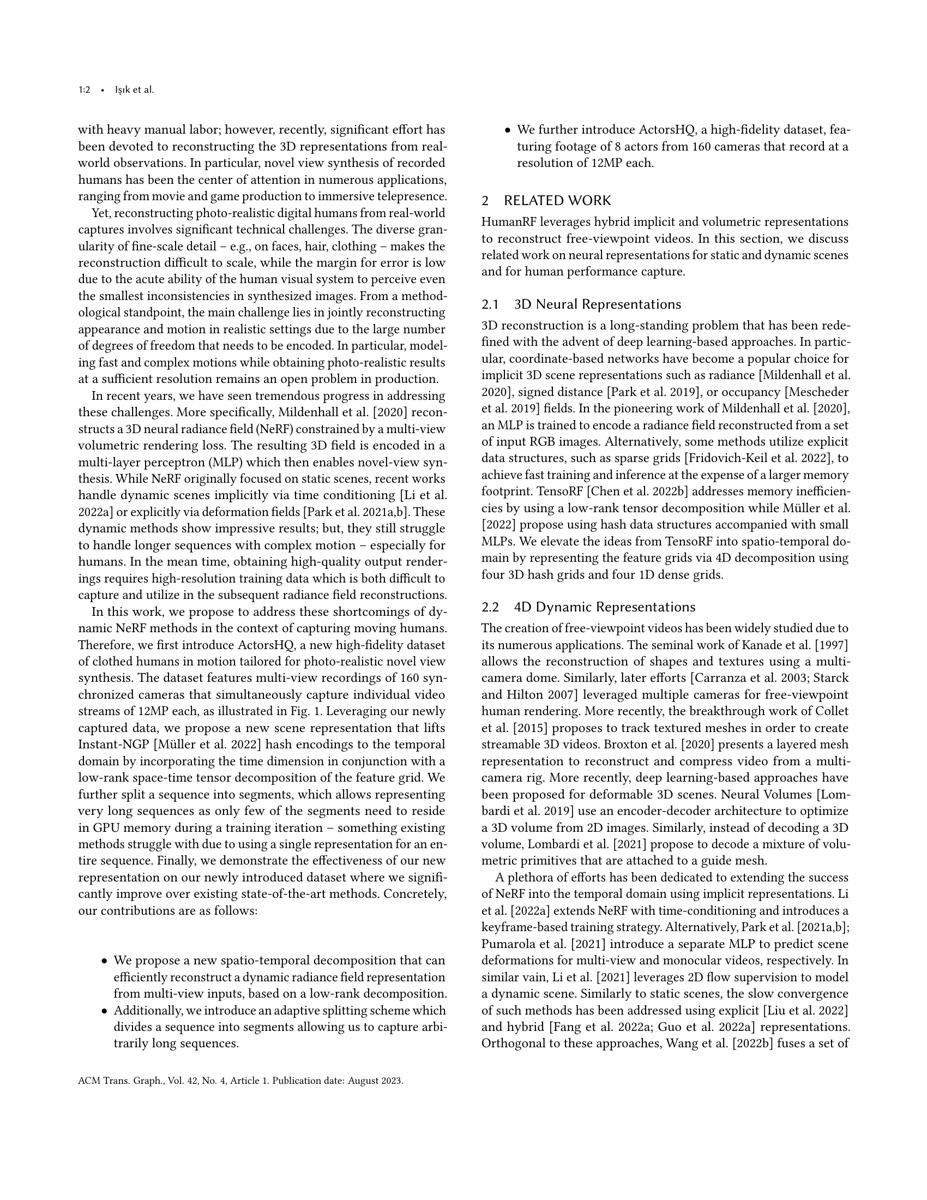text: (73, 121, 450, 603), (73, 603, 450, 921), (475, 295, 854, 586), (475, 596, 854, 869), (475, 869, 854, 1055), (475, 118, 855, 285), (95, 950, 450, 1055)
